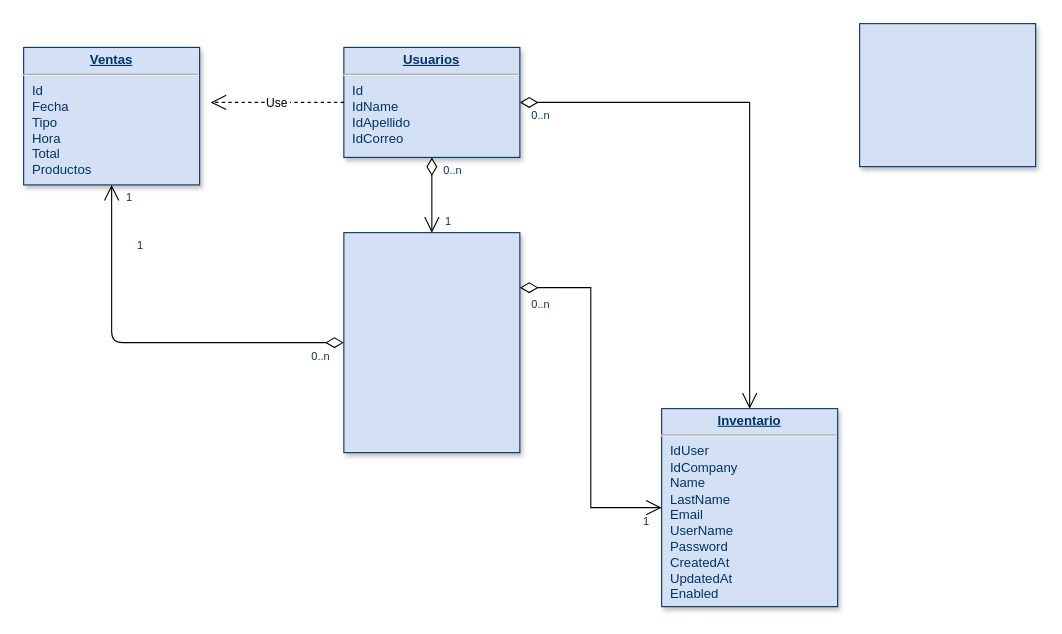
Image size: 1062x634. Some labels were removed from this diagram. Each missing label, with the centre of its shape:
Productos IdProduct Name Description Precio Costo Material: pixel 432 343
Repartos IdTimeCategory Name Description CreatedAt UpdatedAt Enabled: pixel 948 96
